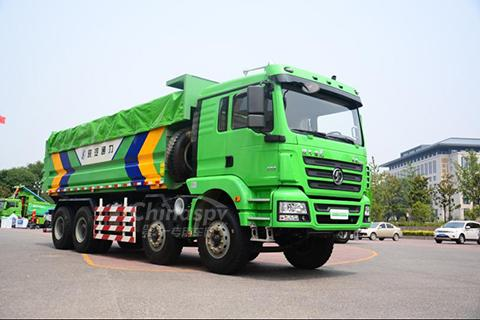truck: (38, 62, 377, 271)
